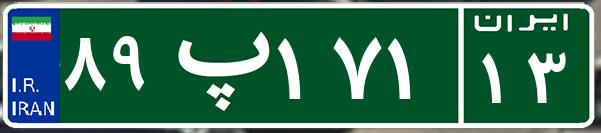1: (385, 28, 445, 110), (273, 28, 330, 110), (475, 38, 525, 113)
3: (525, 38, 570, 115)
7: (330, 28, 385, 110)
8: (57, 26, 110, 107)
9: (110, 28, 158, 105)
پ: (158, 15, 273, 115)
